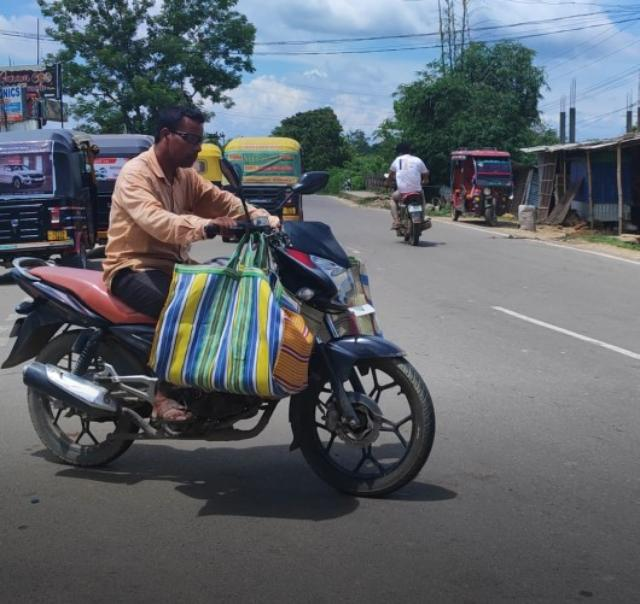licensePlate: (342, 302, 379, 319)
motorcycle: (10, 100, 433, 507)
withoutHelmet: (151, 105, 205, 168)
